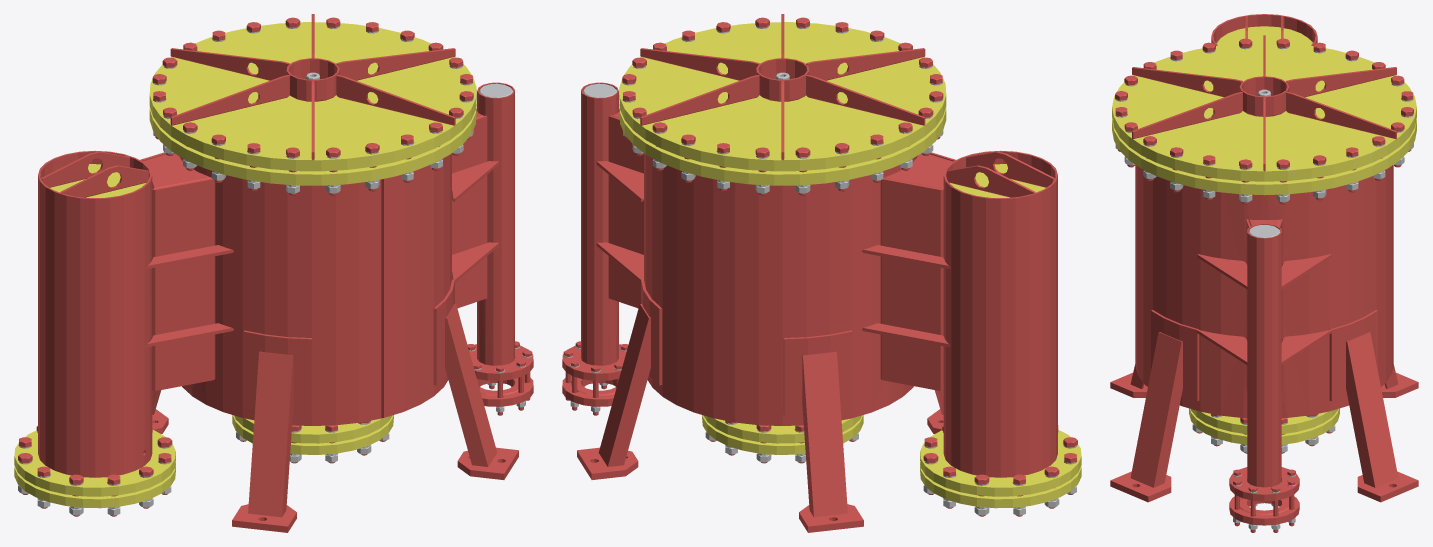
File: ovgd-npp.glb
3 renders of one model, left to right at view 1: azimuth 30°, elevation 25°; view 2: azimuth 150°, elevation 25°; view 3: azimuth 270°, elevation 25°, orthographic. The views are drawn at different scales.
Parts seen in each view (by area): view 1: Фильтр 109; view 2: Фильтр 109; view 3: Фильтр 109.
Boxes of the visible parts, x1,y1,x2,y2 form: Фильтр 109: [14, 14, 533, 532]; Фильтр 109: [562, 14, 1081, 532]; Фильтр 109: [1110, 14, 1418, 532].
Bounding box in the file's own units: 1.65 × 1.18 × 0.9416.
